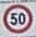limite 50: (2, 3, 32, 32)
